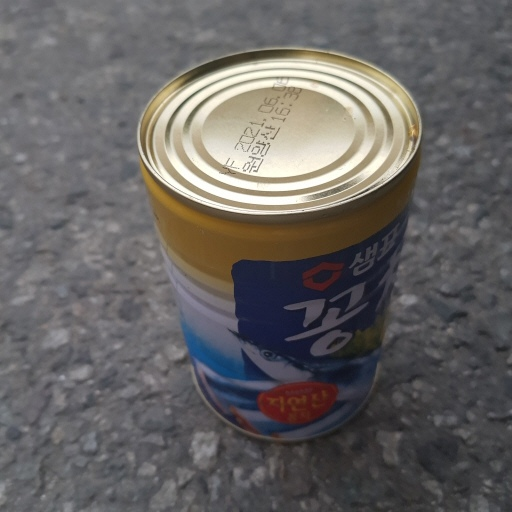Metal_1: (133, 46, 425, 445)
